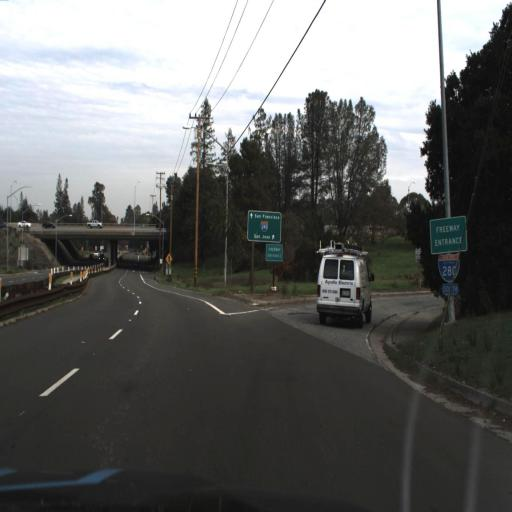car: (318, 245, 374, 328), (38, 216, 58, 234), (17, 218, 36, 230), (86, 217, 103, 228)
